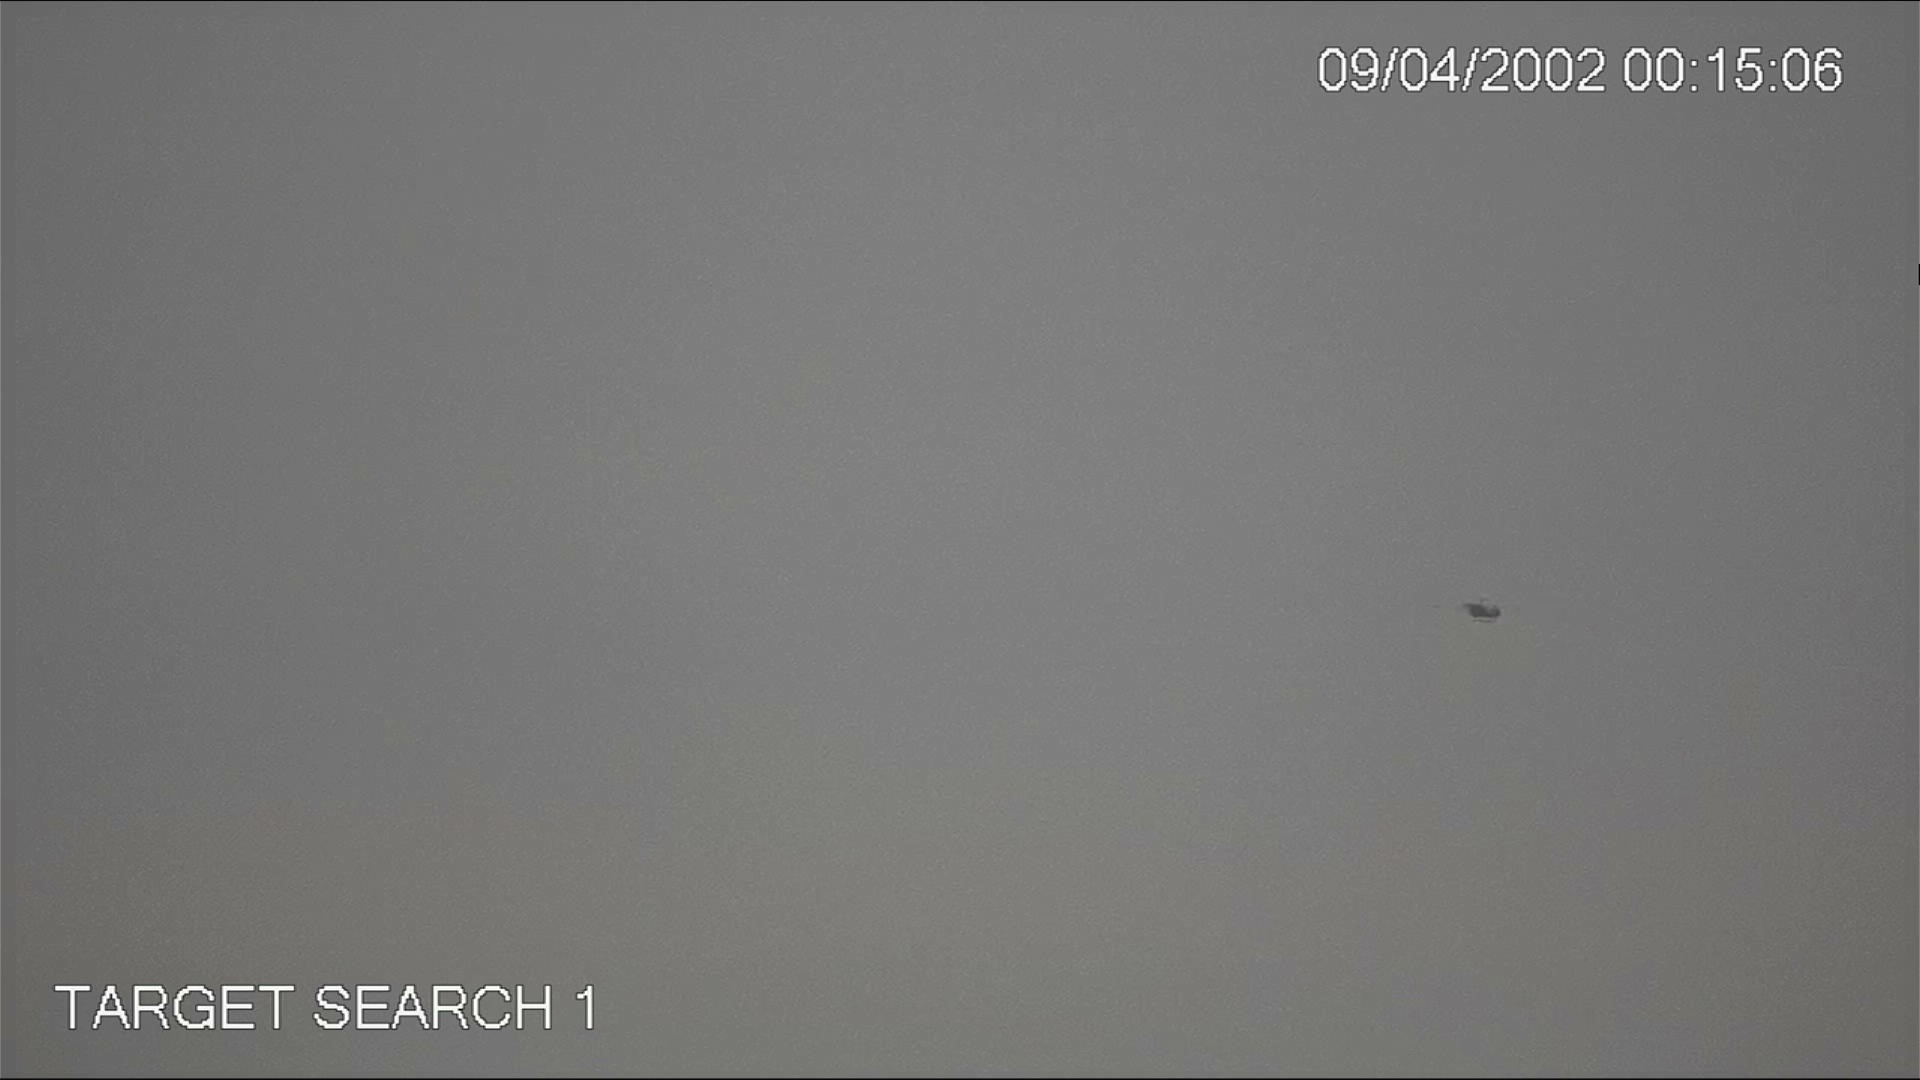SU_30: (1433, 588, 1510, 630)
